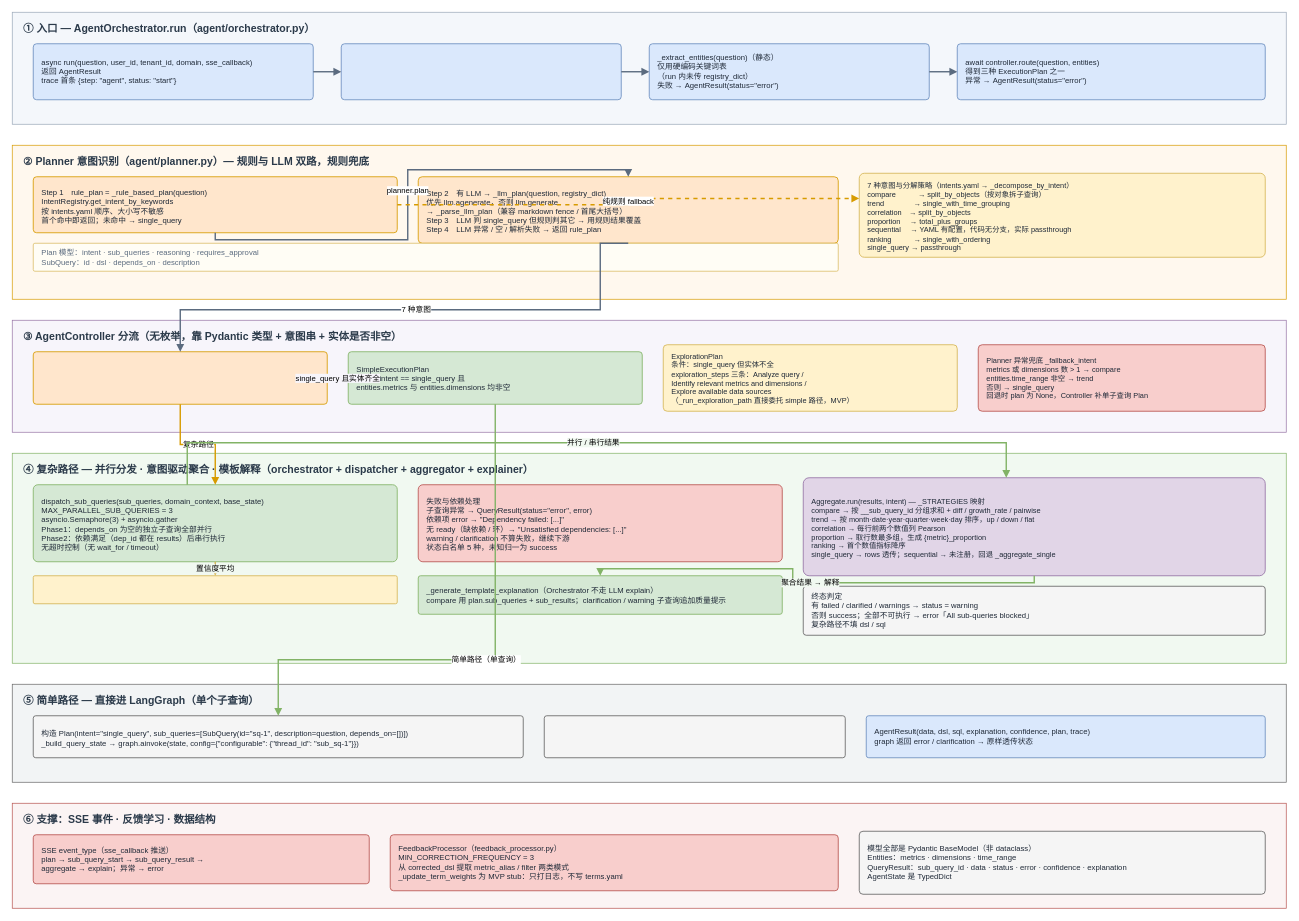
Some shapes in this 1299 by 921 pixel diagram are drawn without their labels. The shapes that lost their labels are listed below. From the top down, each one's centre as x and y in pixels, then its label:
At [480,71]: "_get_domain_context(domain) domain 不存在 → 回退 ecommerce → 第一个域 都没有 → RuntimeError".
At [179,377]: "ComplexExecutionPlan 条件：plan.intent != single_query 7 种意图里除 single_query 全部走这里".
At [214,589]: "confidence = 仅统计非 None 子查询置信度的简单平均（非加权）".
At [694,736]: "子查询统一走同一套 QueryState 预置 Plan 防止 graph 的 plan 节点二次分类".
